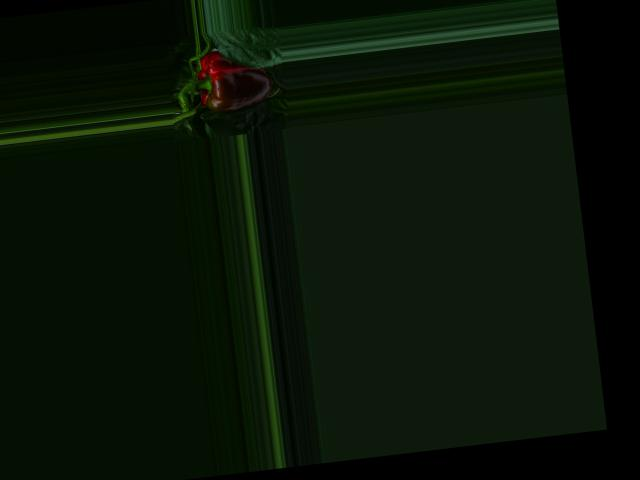bell_pepper: (184, 41, 280, 125)
